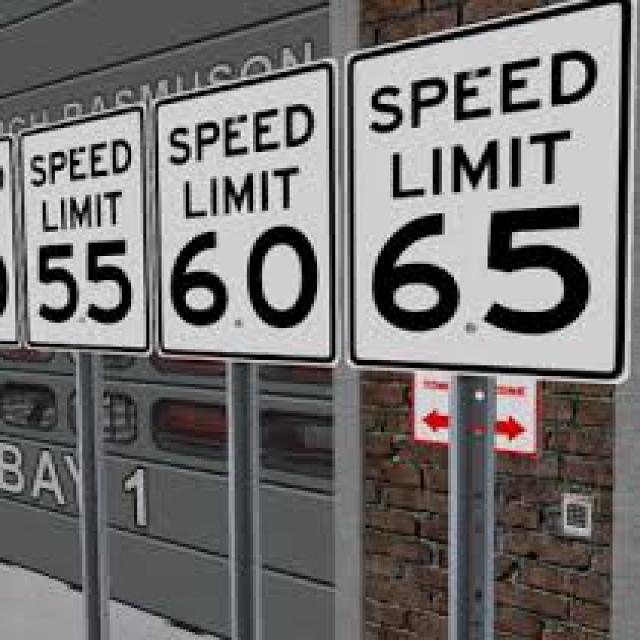speedLimit55: (19, 111, 150, 353)
speedLimit60: (154, 55, 340, 372)
speedLimit65: (347, 31, 631, 385)
